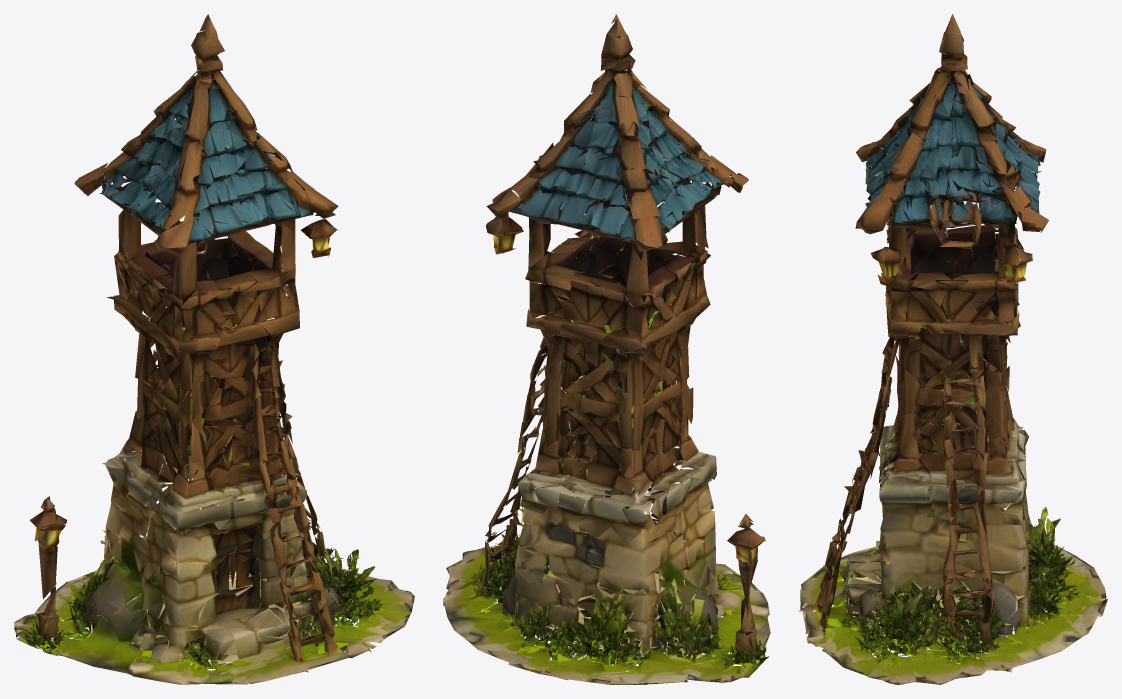
The model's file is Watchtower_T1_town.glb.
3 views of the same model, side by side, from view 1: azimuth 30°, elevation 25°; view 2: azimuth 150°, elevation 25°; view 3: azimuth 270°, elevation 25° (orthographic). The views are drawn at different scales.
Parts seen in each view (by area): view 1: Watchtower_T1; view 2: Watchtower_T1; view 3: Watchtower_T1.
Boxes of the visible parts, x1,y1,x2,y2 form: Watchtower_T1: (14, 14, 414, 684); Watchtower_T1: (443, 14, 770, 684); Watchtower_T1: (799, 14, 1107, 684).
Size of the model in its own units: 1.14 by 1.92 by 0.9074.
1 material, 1 textured.
